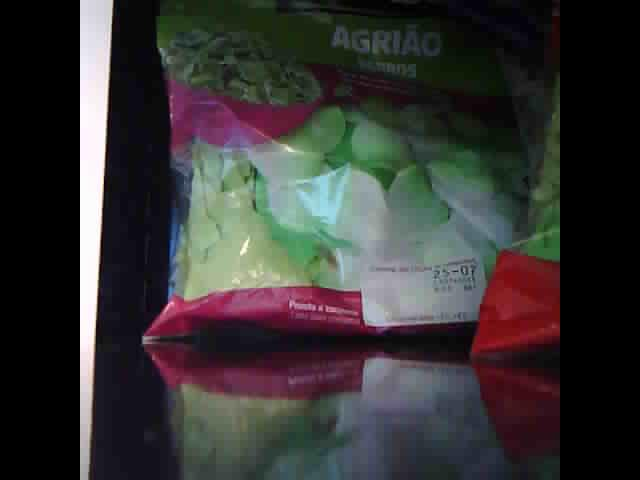florette: (141, 1, 548, 342), (465, 42, 557, 360)
